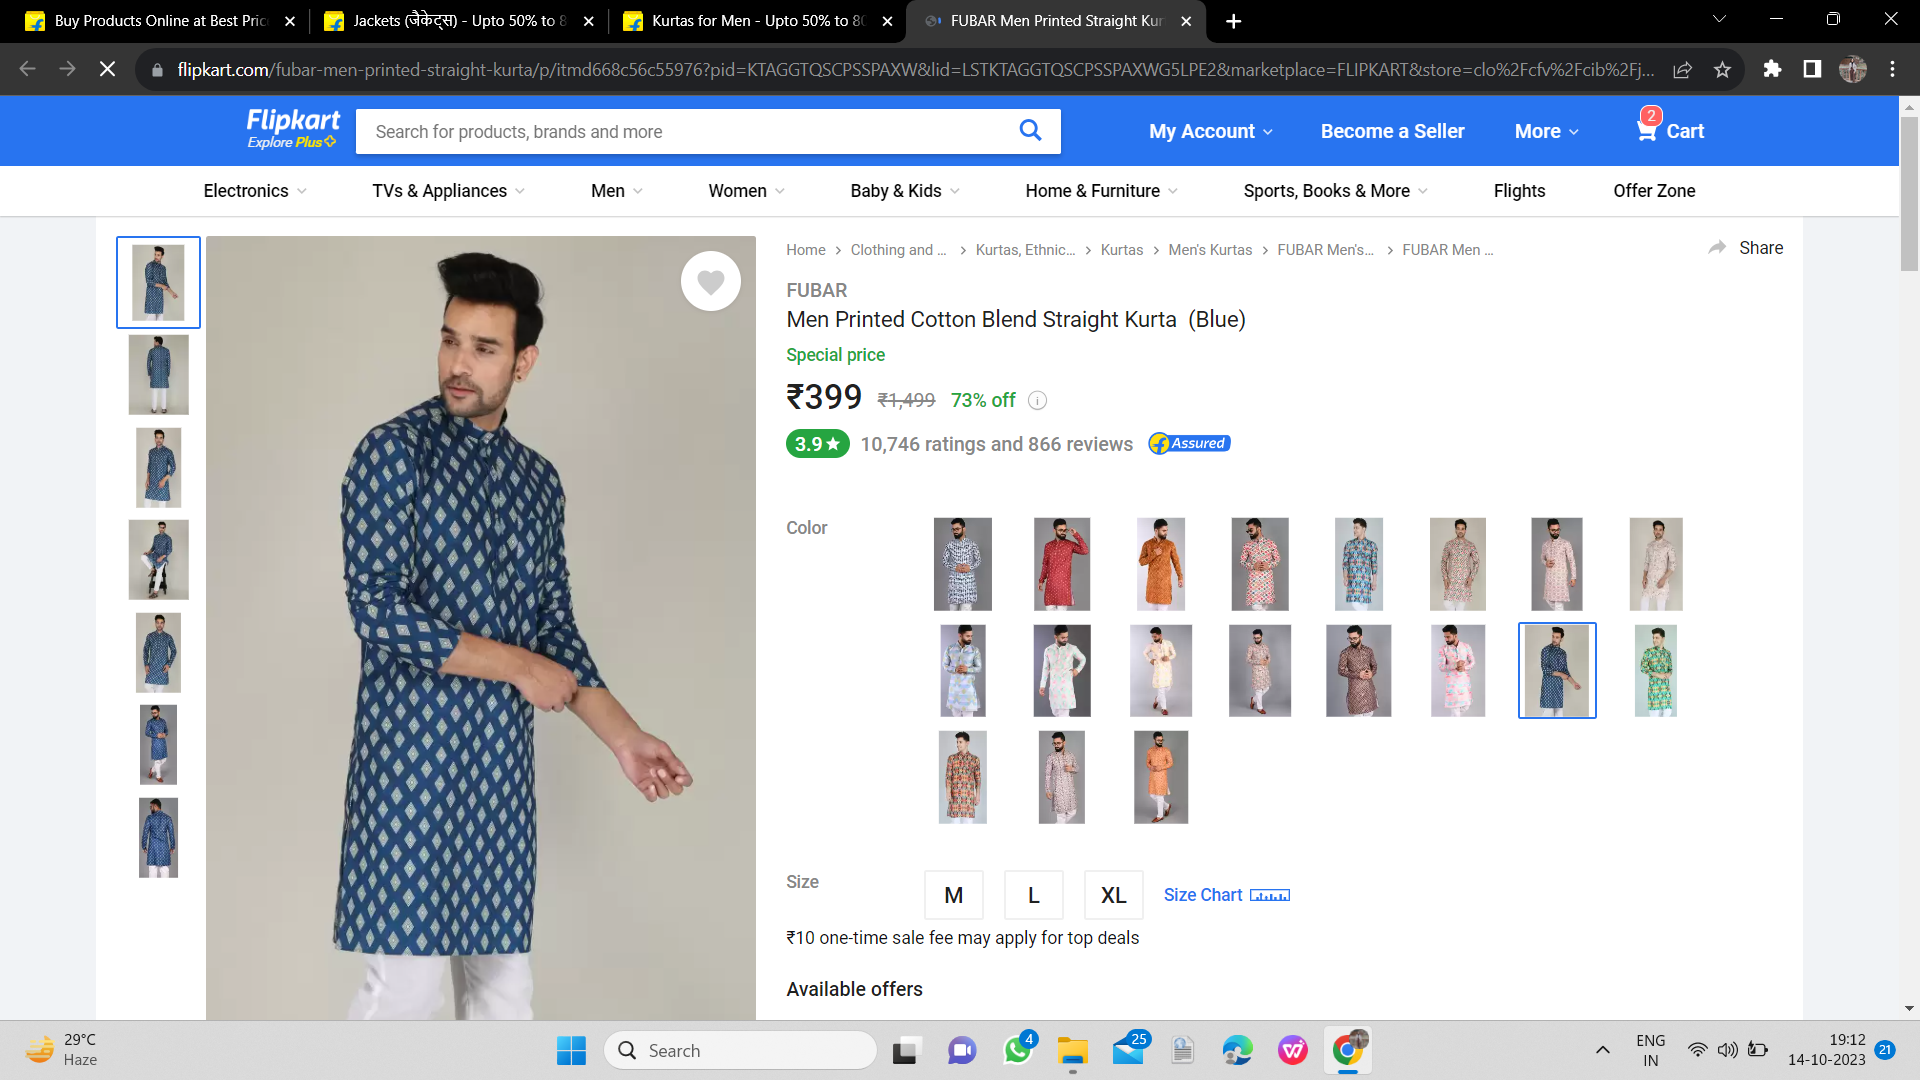Image: (211, 245, 757, 997), (895, 502, 1700, 832)
Paragraph: (1133, 99, 1716, 149), (781, 278, 1255, 339), (903, 861, 1307, 919), (774, 427, 1249, 471), (773, 923, 1154, 953), (770, 380, 1042, 418), (777, 340, 895, 367), (777, 858, 827, 895), (781, 513, 831, 542)
